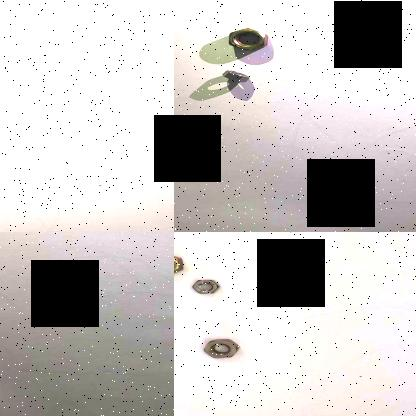NUTS: (214, 22, 286, 56), (215, 67, 257, 95), (199, 338, 242, 364), (188, 277, 223, 297)
